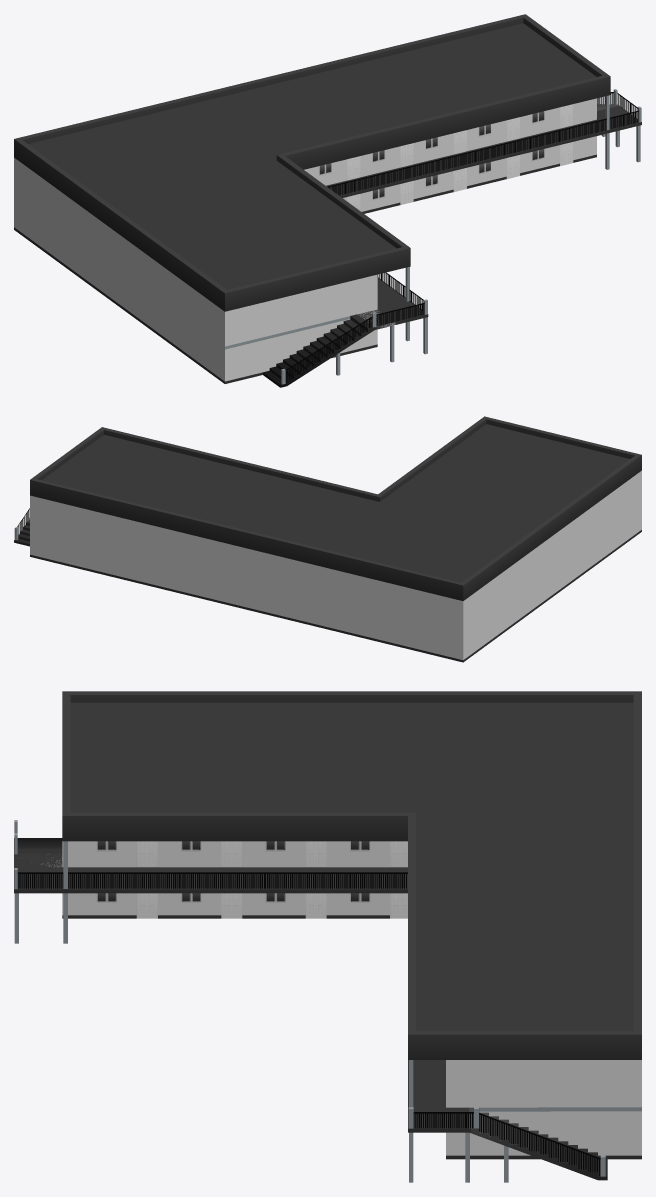
Rendered from Hotel1.fbx.
3 views of the same model, one above another, from view 1: azimuth 30°, elevation 25°; view 2: azimuth 150°, elevation 25°; view 3: azimuth 270°, elevation 25° (orthographic). The views are drawn at different scales.
Visible parts, largest first — view 1: MainBody1_LOD0, PagarBody1_LOD0, MainPintuBody2_LOD0, TanggaBody1_LOD0; view 2: MainBody1_LOD0; view 3: MainBody1_LOD0, PagarBody1_LOD0, MainPintuBody2_LOD0, TanggaBody1_LOD0.
Boxes of the visible parts, x1,y1,x2,y2 form: MainBody1_LOD0: (14, 14, 641, 383); PagarBody1_LOD0: (281, 89, 641, 384); MainPintuBody2_LOD0: (304, 104, 573, 210); TanggaBody1_LOD0: (263, 103, 619, 387); MainBody1_LOD0: (30, 416, 641, 662); MainBody1_LOD0: (14, 691, 641, 1182); PagarBody1_LOD0: (14, 820, 605, 1176); MainPintuBody2_LOD0: (96, 841, 407, 918); TanggaBody1_LOD0: (14, 838, 607, 1180).
Size of what is drawn, in the model's own units: 8161 by 1334 by 5950.
